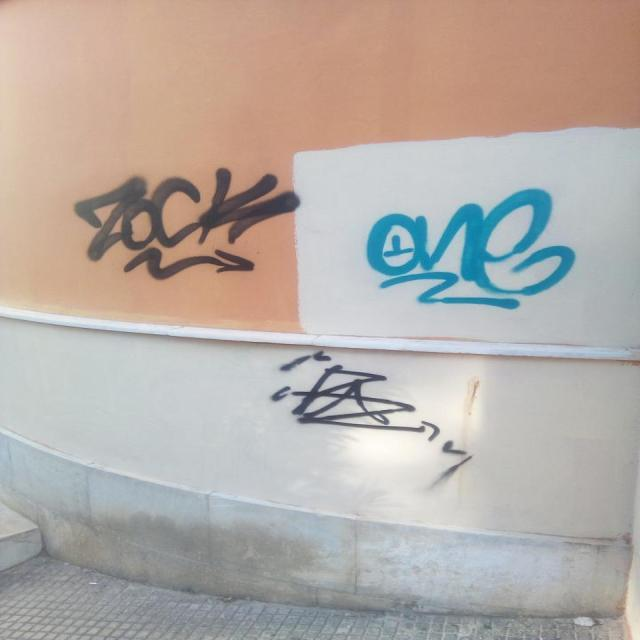nonspitting: (364, 188, 578, 314), (272, 351, 474, 484), (73, 165, 298, 284)
